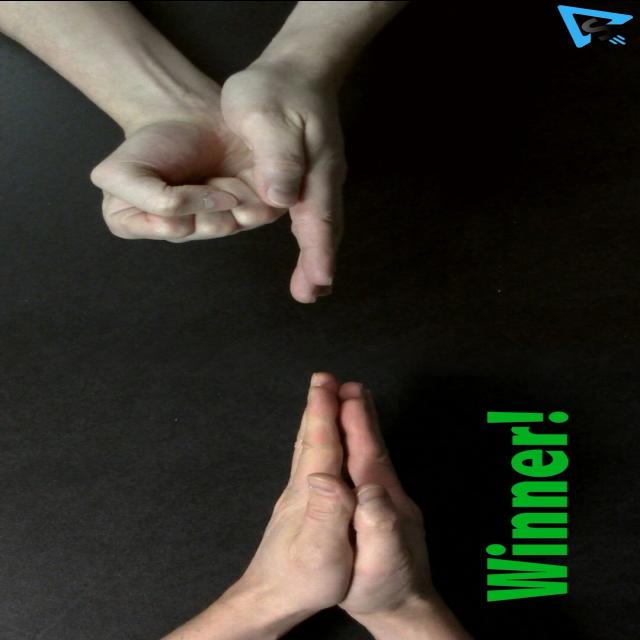Paper: (238, 371, 354, 609)
Rock: (90, 110, 284, 242)
